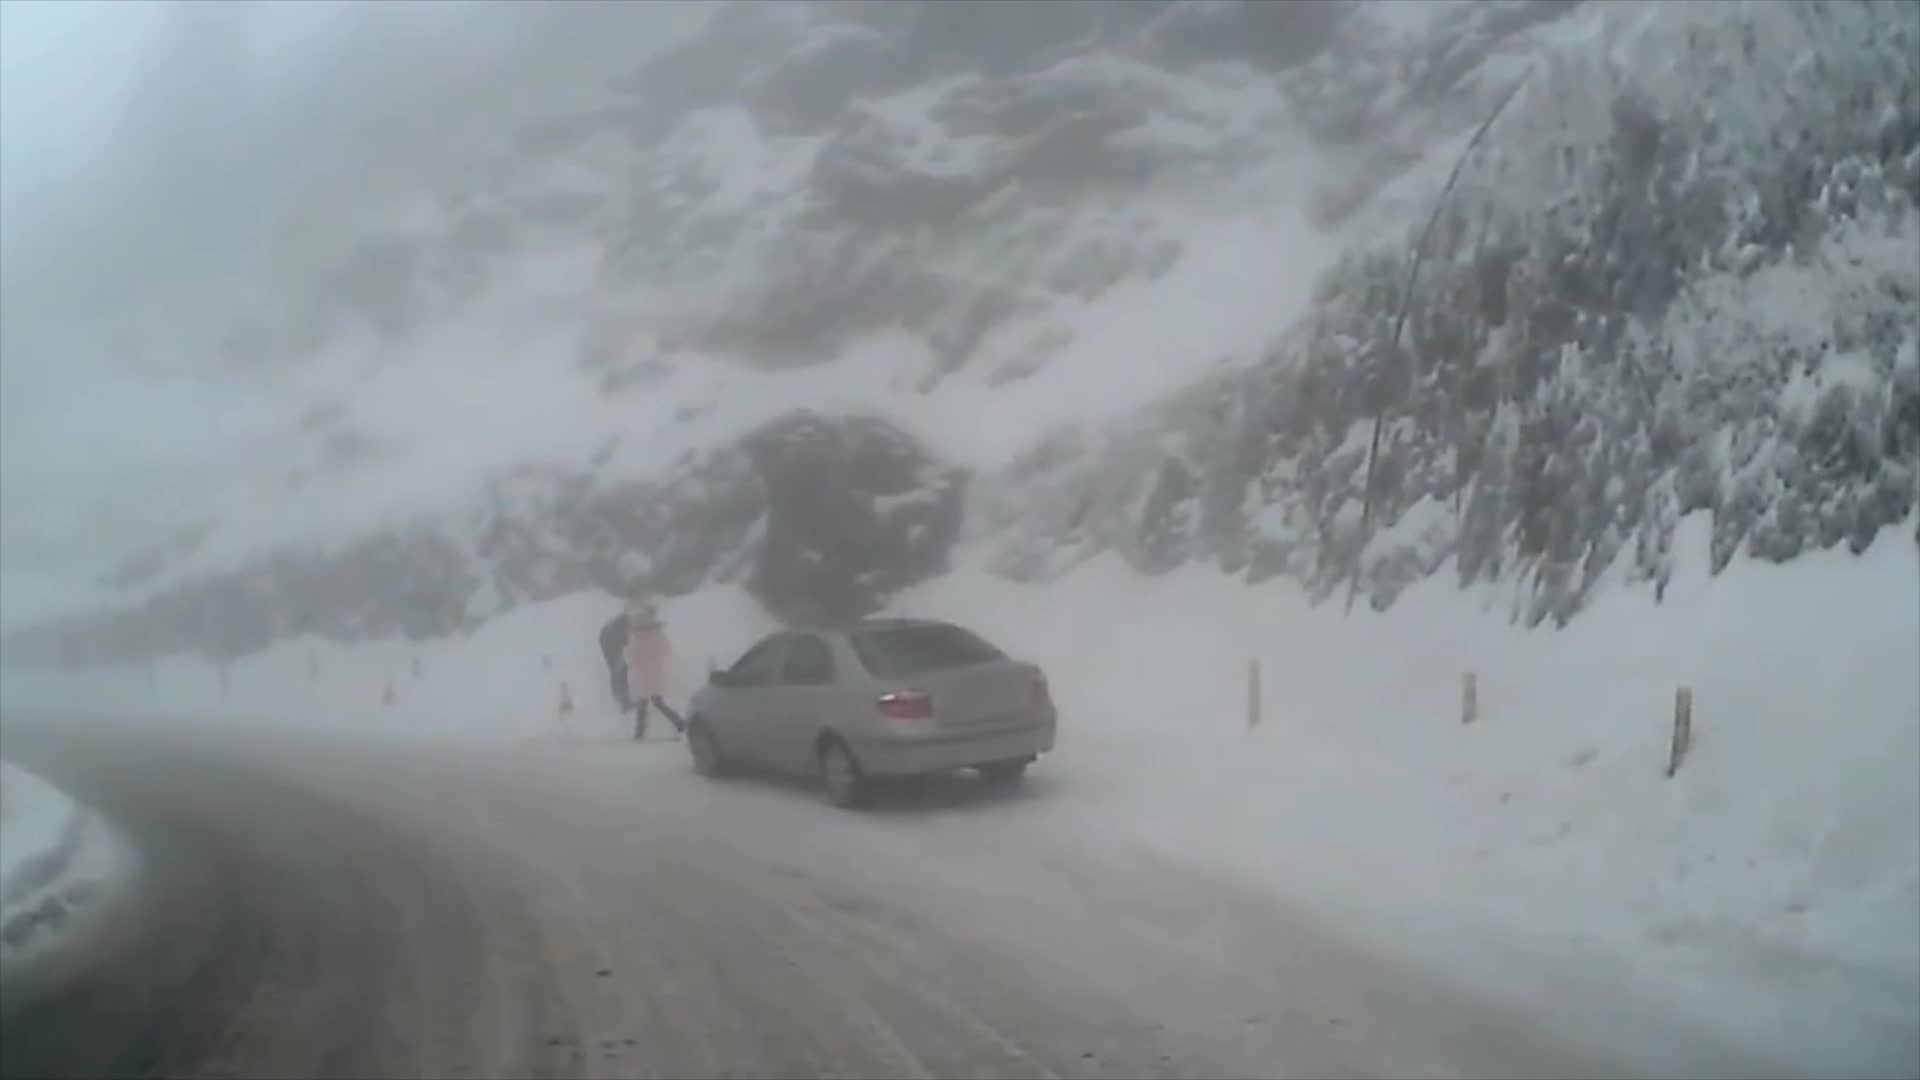pedestrian: (612, 599, 692, 746), (602, 608, 677, 717)
vehicle: (683, 617, 1059, 811)
